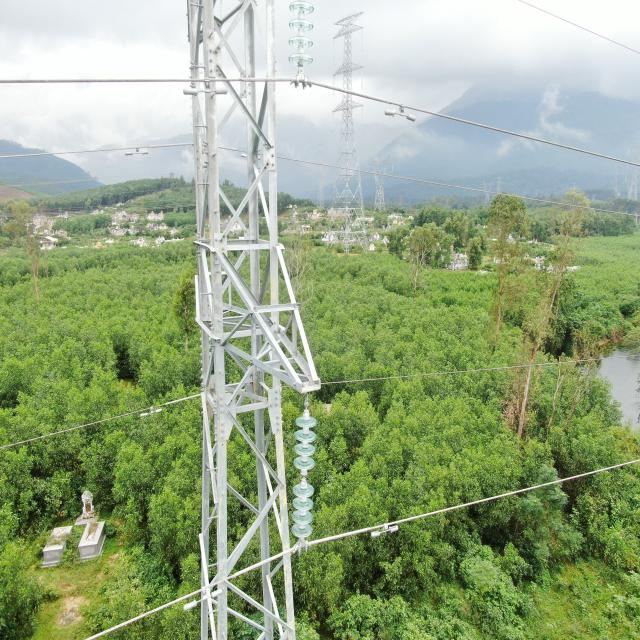杆塔: (170, 0, 330, 640), (327, 7, 370, 257)
正常电缆: (75, 448, 640, 638), (0, 70, 640, 170), (0, 135, 640, 229), (340, 340, 639, 393), (4, 392, 167, 461)
正常绝缘子: (287, 390, 319, 554), (283, 1, 317, 96)
绝缘子破损: (300, 471, 308, 482)
